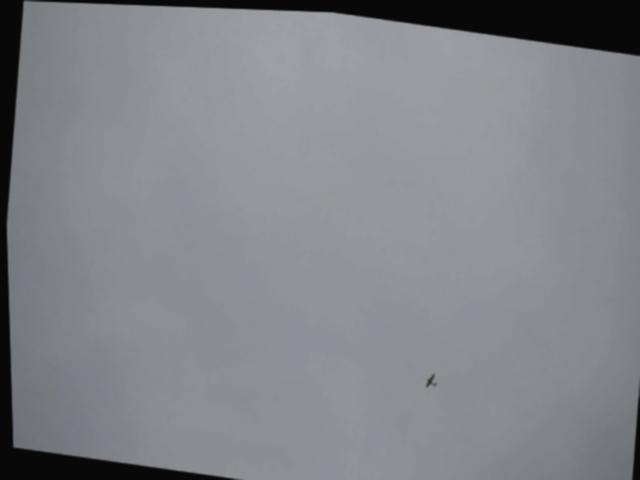plane: (420, 369, 439, 387)
